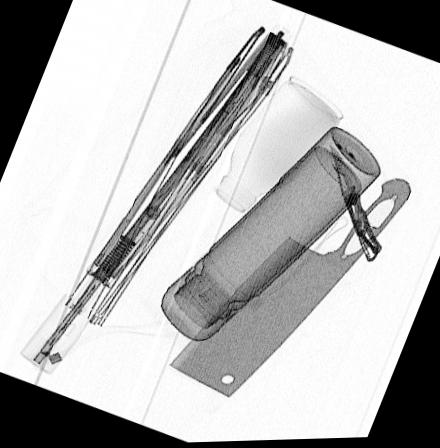Knife: (166, 180, 412, 399), (329, 144, 383, 264)
